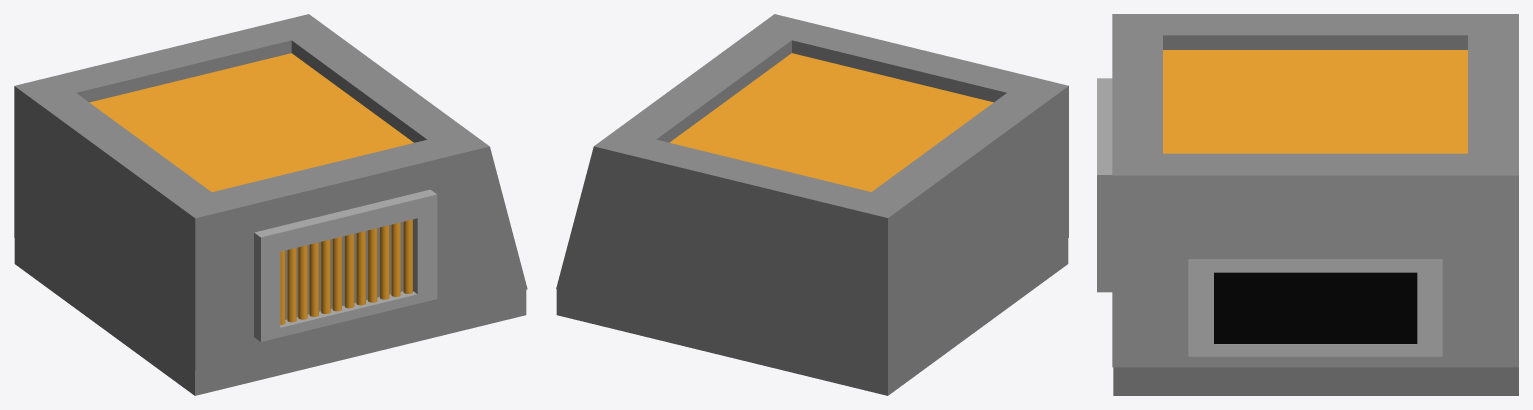
The model's file is GRINDINGMACHINE.fbx.
3 views of the same model, side by side, from view 1: azimuth 30°, elevation 25°; view 2: azimuth 150°, elevation 25°; view 3: azimuth 270°, elevation 25° (orthographic). The views are drawn at different scales.
Parts seen in each view (by area): view 1: Cube, Plane, Cylinder.007, Cylinder.005, Cylinder.009, Cylinder.010, Cylinder.001, Cylinder.002, Cylinder.003, Cylinder.004, Cylinder.008, Cylinder.011 (+1 smaller); view 2: Cube, Plane; view 3: Cube, Plane.
Part boxes in pixels (left/top/right/bottom): Cube: left=14, top=14, right=527, bottom=370; Plane: left=14, top=238, right=526, bottom=395; Cylinder.007: left=344, top=234, right=354, bottom=308; Cylinder.005: left=332, top=236, right=341, bottom=311; Cylinder.009: left=368, top=228, right=377, bottom=302; Cylinder.010: left=380, top=225, right=389, bottom=299; Cylinder.001: left=287, top=248, right=296, bottom=322; Cylinder.002: left=298, top=245, right=307, bottom=319; Cylinder.003: left=309, top=242, right=318, bottom=316; Cylinder.004: left=321, top=239, right=330, bottom=313; Cylinder.008: left=356, top=231, right=365, bottom=305; Cylinder.011: left=391, top=222, right=400, bottom=296; Cube: left=556, top=14, right=1068, bottom=369; Plane: left=556, top=238, right=1068, bottom=395; Cube: left=1097, top=14, right=1518, bottom=367; Plane: left=1113, top=367, right=1518, bottom=395.
Bounding box in the file's own units: 521 × 264 × 504.
